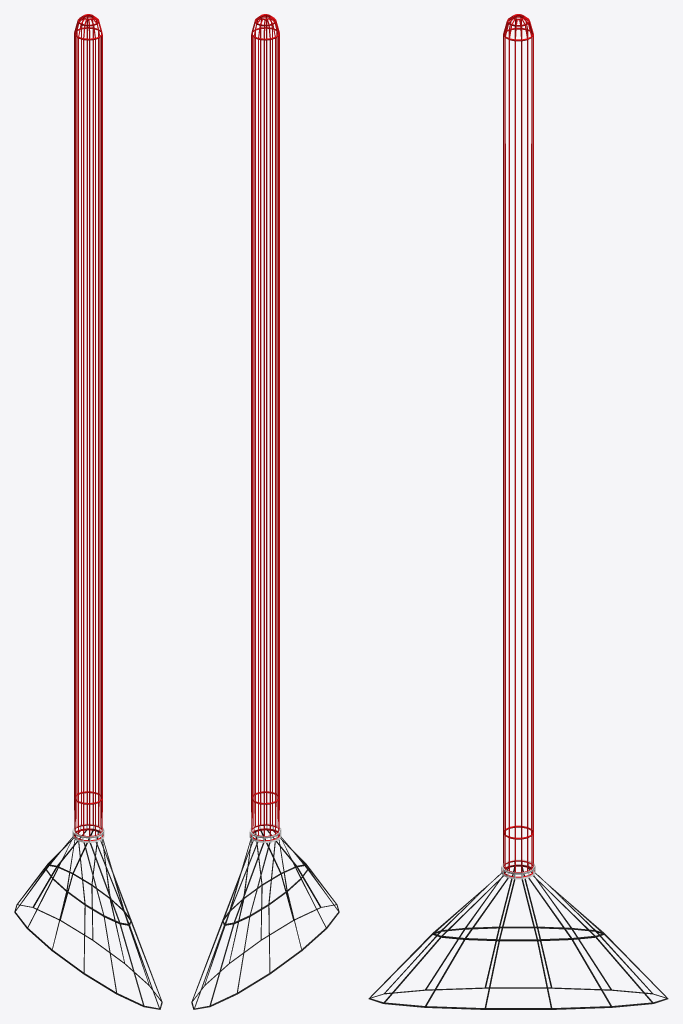
The model's file is broom_o.glb.
3 renders of one model, left to right at view 1: azimuth 30°, elevation 25°; view 2: azimuth 150°, elevation 25°; view 3: azimuth 270°, elevation 25°, orthographic. The views are drawn at different scales.
Parts seen in each view (by area): view 1: Cylinder.003; view 2: Cylinder.003; view 3: Cylinder.003.
Part boxes in pixels (box(x1,y1,x2,y2)): Cylinder.003: box(14, 14, 162, 1009); Cylinder.003: box(191, 14, 339, 1009); Cylinder.003: box(368, 14, 668, 1009).
Size of the model in its own units: 0.1834 by 3.96 by 1.1.
